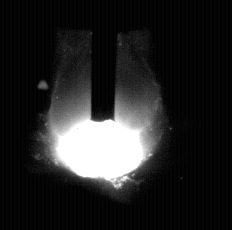arame: (91, 0, 117, 122)
poca: (46, 0, 165, 230)
